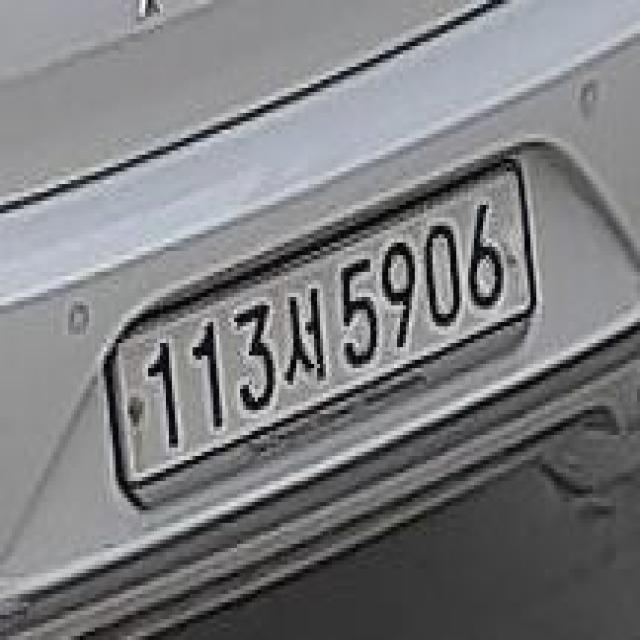illegal_plate: (104, 157, 541, 514)
